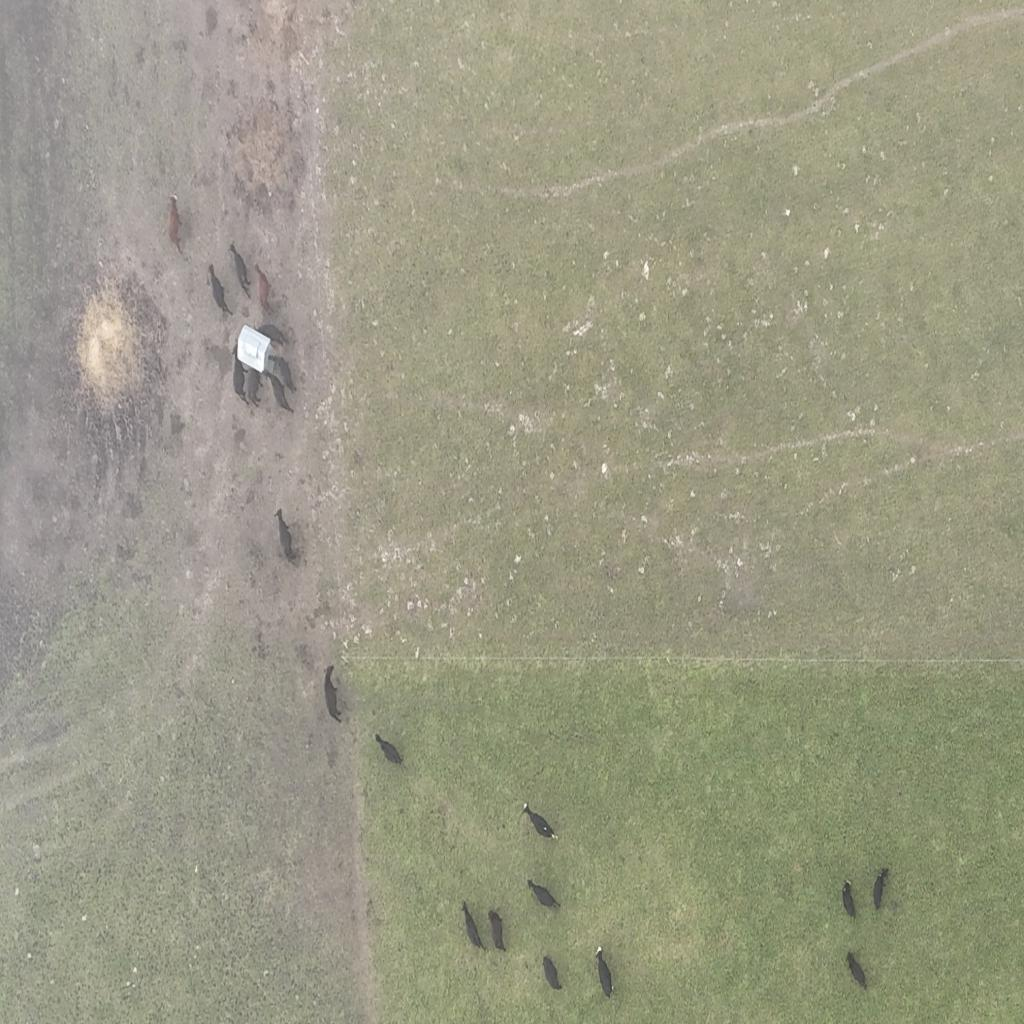cow: (166, 192, 190, 264), (263, 365, 294, 416), (520, 802, 558, 842), (228, 241, 252, 300), (207, 263, 232, 319), (272, 348, 298, 397), (461, 897, 484, 952), (527, 877, 560, 911), (275, 508, 295, 563), (208, 340, 234, 382), (324, 664, 342, 724), (375, 733, 404, 767), (596, 944, 614, 998), (254, 262, 272, 314), (845, 950, 867, 990), (256, 323, 288, 350), (232, 345, 246, 402), (488, 908, 506, 952), (246, 363, 263, 409), (542, 954, 562, 992), (873, 868, 889, 910), (842, 878, 855, 918), (169, 411, 186, 440)
